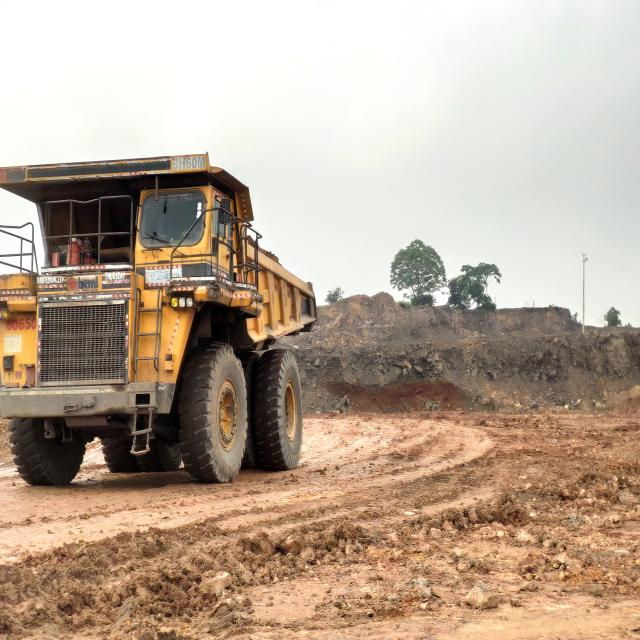dump_truck: (0, 152, 319, 490)
